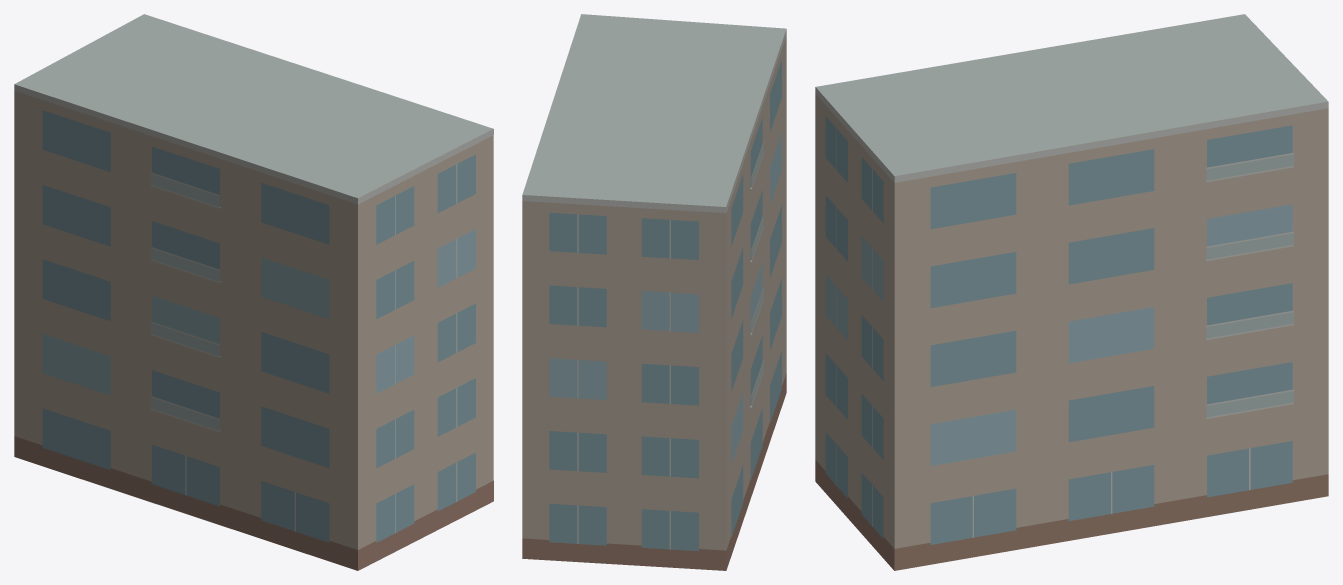
Rendered from survey-upis-32888770.glb.
3 renders of one model, left to right at view 1: azimuth 30°, elevation 25°; view 2: azimuth 150°, elevation 25°; view 3: azimuth 270°, elevation 25°, orthographic. The views are drawn at different scales.
Parts seen in each view (by area): view 1: survey-upis-32888770.tmp; view 2: survey-upis-32888770.tmp; view 3: survey-upis-32888770.tmp.
Boxes of the visible parts, x1,y1,x2,y2 form: survey-upis-32888770.tmp: (14, 14, 493, 570); survey-upis-32888770.tmp: (522, 14, 786, 570); survey-upis-32888770.tmp: (815, 14, 1328, 570).
Bounding box in the file's own units: 12.8 × 14.5 × 17.1.
